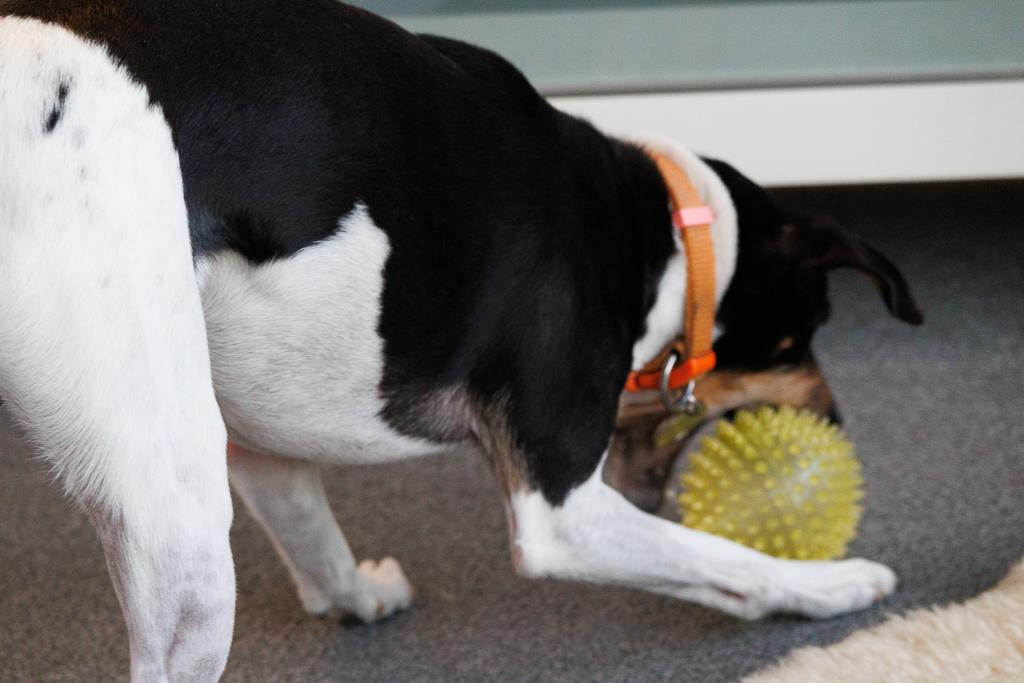Dog: (0, 0, 933, 683)
